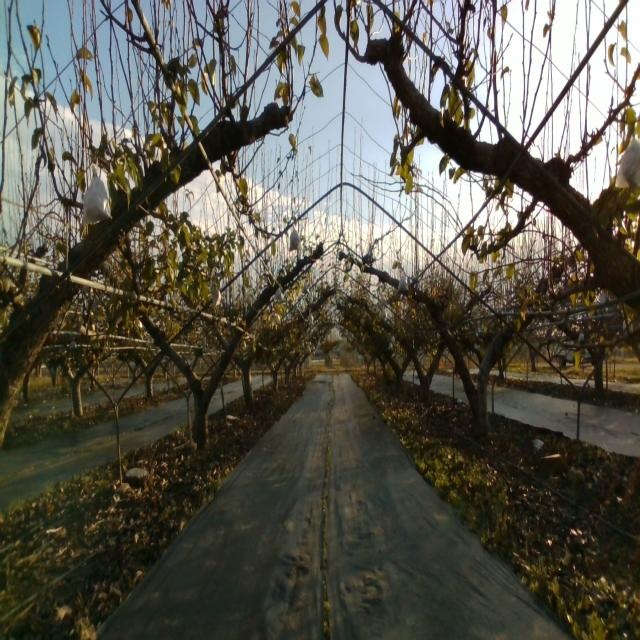pearbags: (80, 163, 112, 229), (613, 129, 640, 190), (287, 224, 302, 252), (396, 272, 410, 292)
